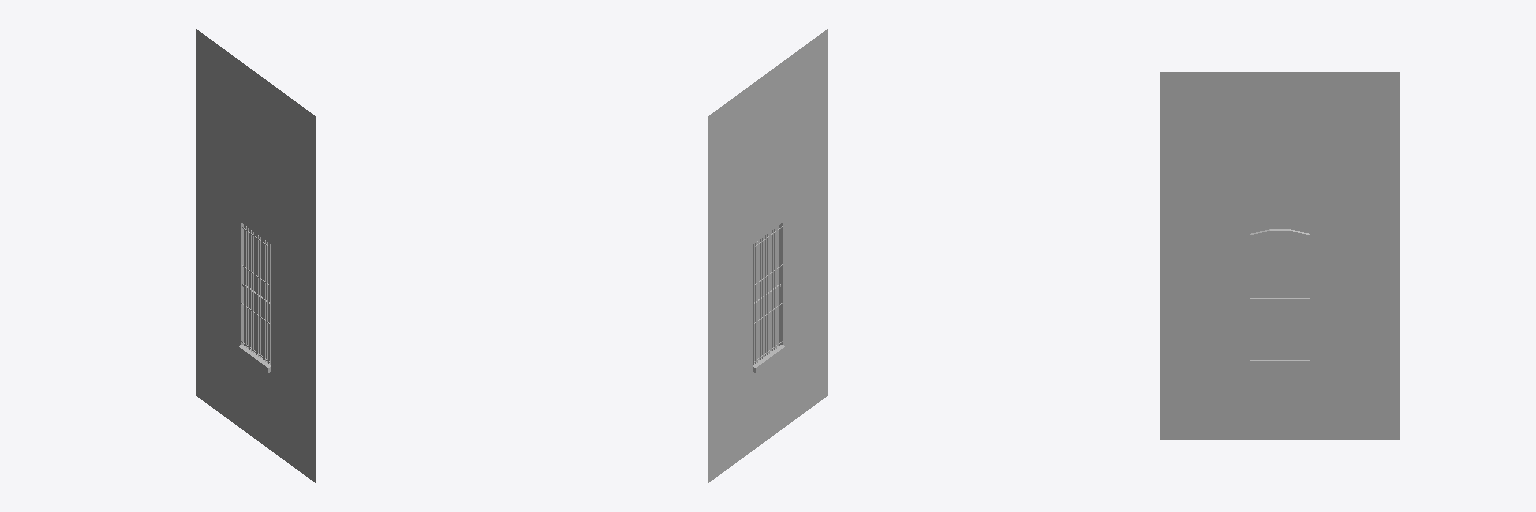
File: Wall_windowTEX.obj
3 renders of one model, left to right at view 1: azimuth 30°, elevation 25°; view 2: azimuth 150°, elevation 25°; view 3: azimuth 270°, elevation 25°, orthographic.
Parts seen in each view (by area): view 1: Cube.000_Cube.008; view 2: Cube.000_Cube.008; view 3: Cube.000_Cube.008.
Part boxes in pixels (x1,y1,x2,y2): Cube.000_Cube.008: (196, 29, 315, 482); Cube.000_Cube.008: (708, 29, 827, 482); Cube.000_Cube.008: (1160, 72, 1399, 439).
Size of the model in its own units: 0.0789 by 4.57 by 2.72.